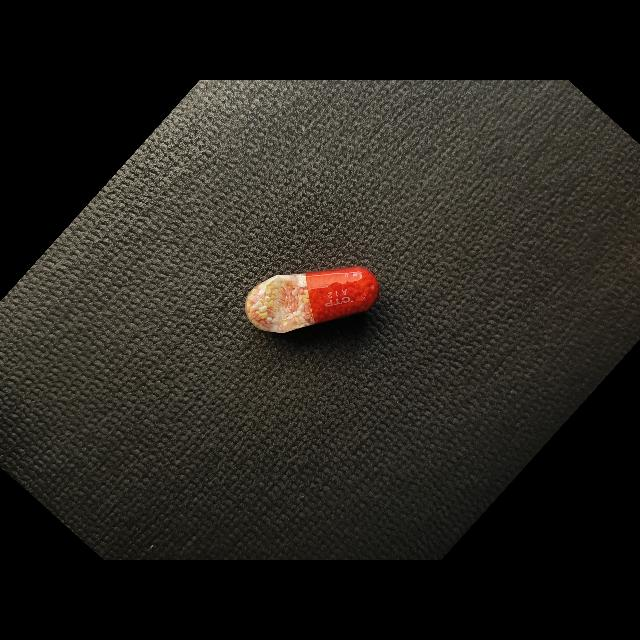Defective Capsule: (245, 266, 379, 333)
